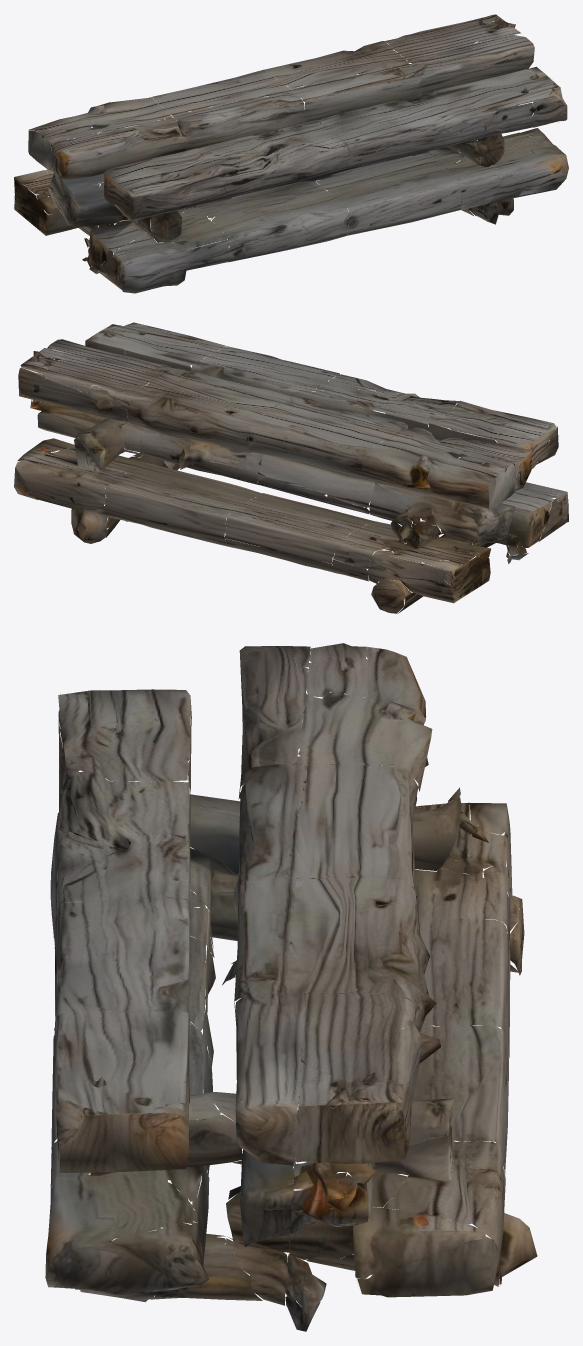
The model's file is wood_slat.glb.
3 renders of one model, top to bottom at view 1: azimuth 30°, elevation 25°; view 2: azimuth 150°, elevation 25°; view 3: azimuth 270°, elevation 25°, orthographic. The views are drawn at different scales.
Parts seen in each view (by area): view 1: tripo_node_2afcfcdf-09df-41a3-abb5-52aac5f80fa4; view 2: tripo_node_2afcfcdf-09df-41a3-abb5-52aac5f80fa4; view 3: tripo_node_2afcfcdf-09df-41a3-abb5-52aac5f80fa4.
Part boxes in pixels (left/top/right/bottom): tripo_node_2afcfcdf-09df-41a3-abb5-52aac5f80fa4: left=14, top=14, right=568, bottom=293; tripo_node_2afcfcdf-09df-41a3-abb5-52aac5f80fa4: left=14, top=322, right=568, bottom=613; tripo_node_2afcfcdf-09df-41a3-abb5-52aac5f80fa4: left=45, top=643, right=537, bottom=1331.
Size of the model in its own units: 0.9986 by 0.3222 by 0.4507.
1 material, 1 textured.
